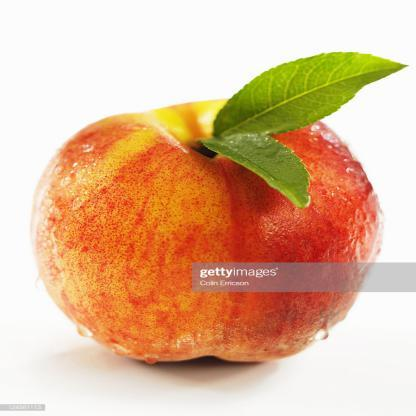Peach leaf: (212, 48, 410, 140), (201, 129, 315, 209)
